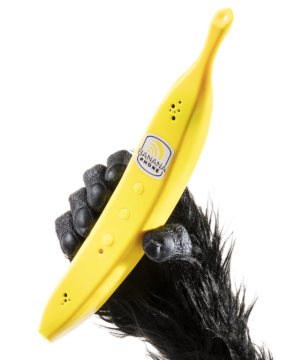banana: (29, 11, 246, 348)
